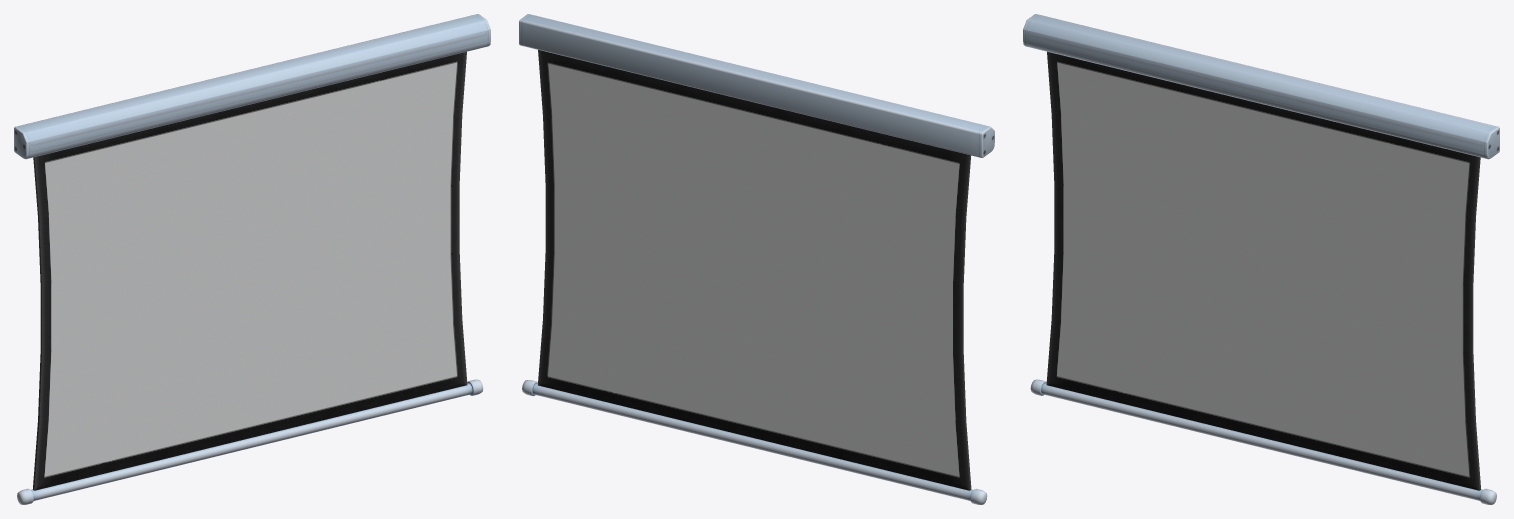
File: OfficeProjectionScreen01.FBX
3 views of the same model, side by side, from view 1: azimuth 30°, elevation 25°; view 2: azimuth 150°, elevation 25°; view 3: azimuth 330°, elevation 25° (orthographic).
Visible parts, largest first — view 1: OfficeProjectionScreen01; view 2: OfficeProjectionScreen01; view 3: OfficeProjectionScreen01.
Part boxes in pixels (x1=…): OfficeProjectionScreen01: x1=14, y1=14, x2=490, y2=504; OfficeProjectionScreen01: x1=519, y1=14, x2=994, y2=504; OfficeProjectionScreen01: x1=1023, y1=14, x2=1499, y2=504.
Size of what is drawn, in the model's own units: 2.9 by 2.24 by 0.1395.
